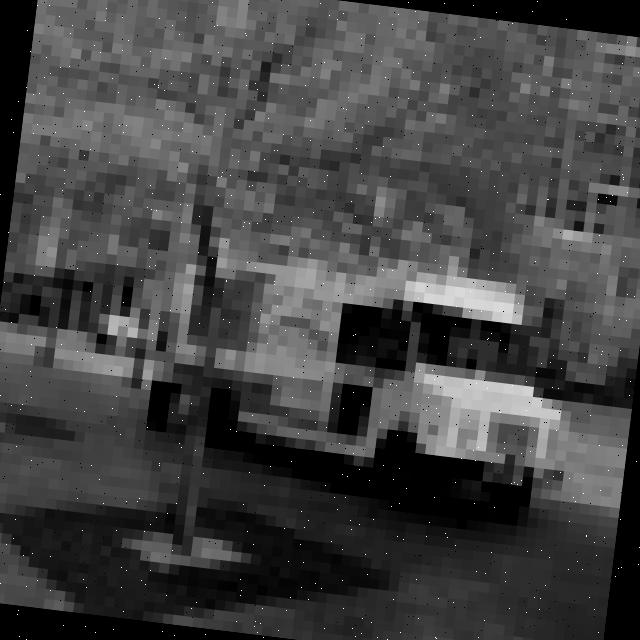trucks: (129, 218, 596, 531)
